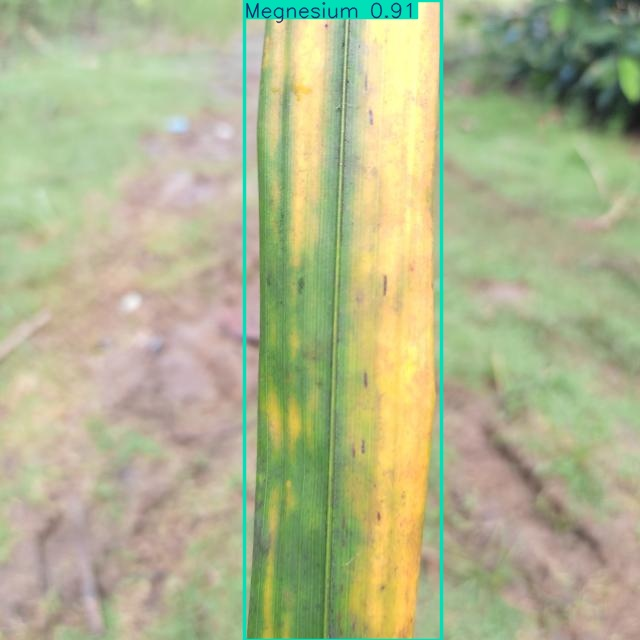Megnesium: (244, 0, 442, 640)
